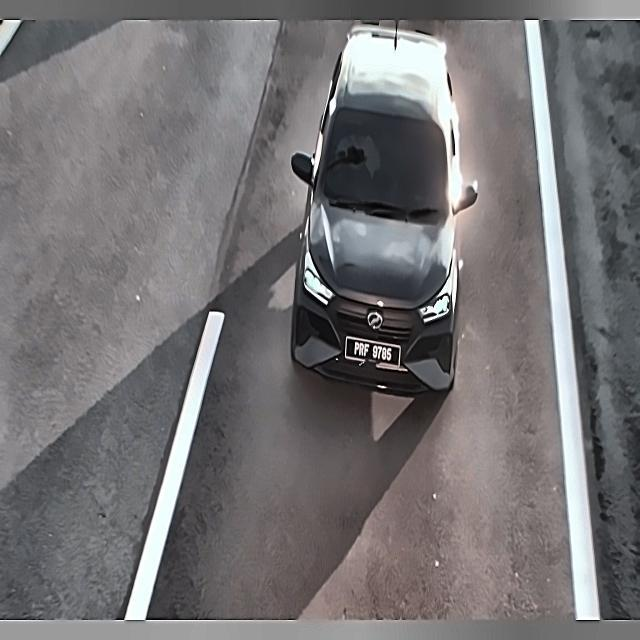car: (346, 331, 403, 374)
